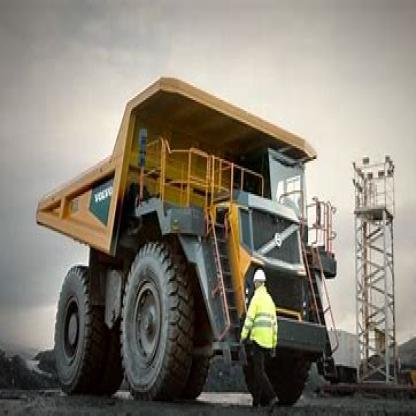dump_truck: (34, 61, 328, 399)
person: (238, 261, 286, 412)
